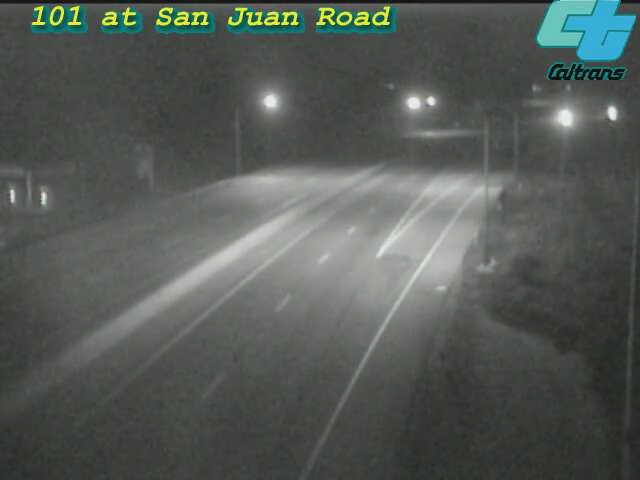vehicle: (536, 94, 586, 144), (583, 88, 633, 138)
